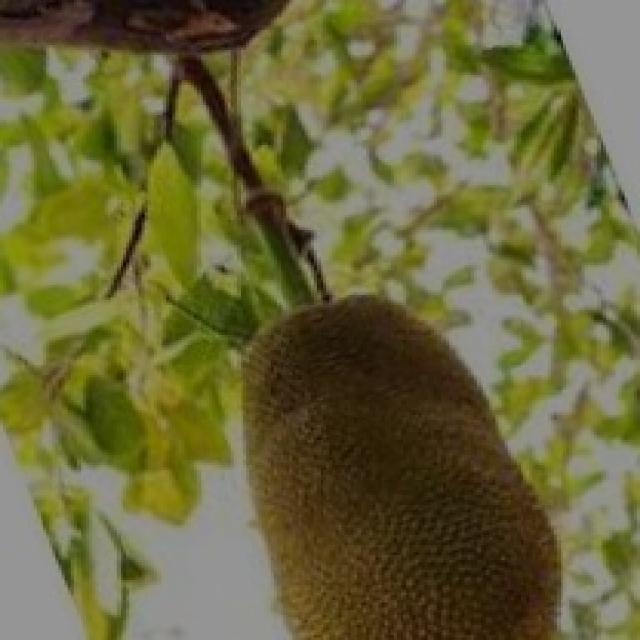Fruit: (212, 267, 603, 640)
